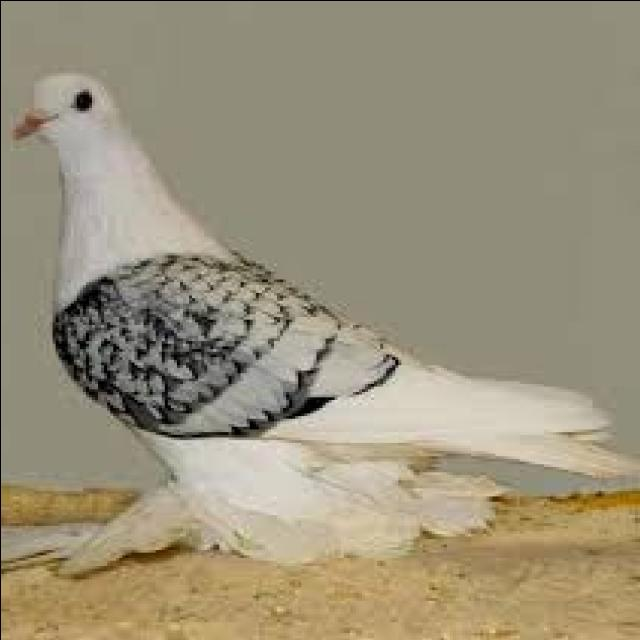pigeon: (0, 71, 640, 580)
